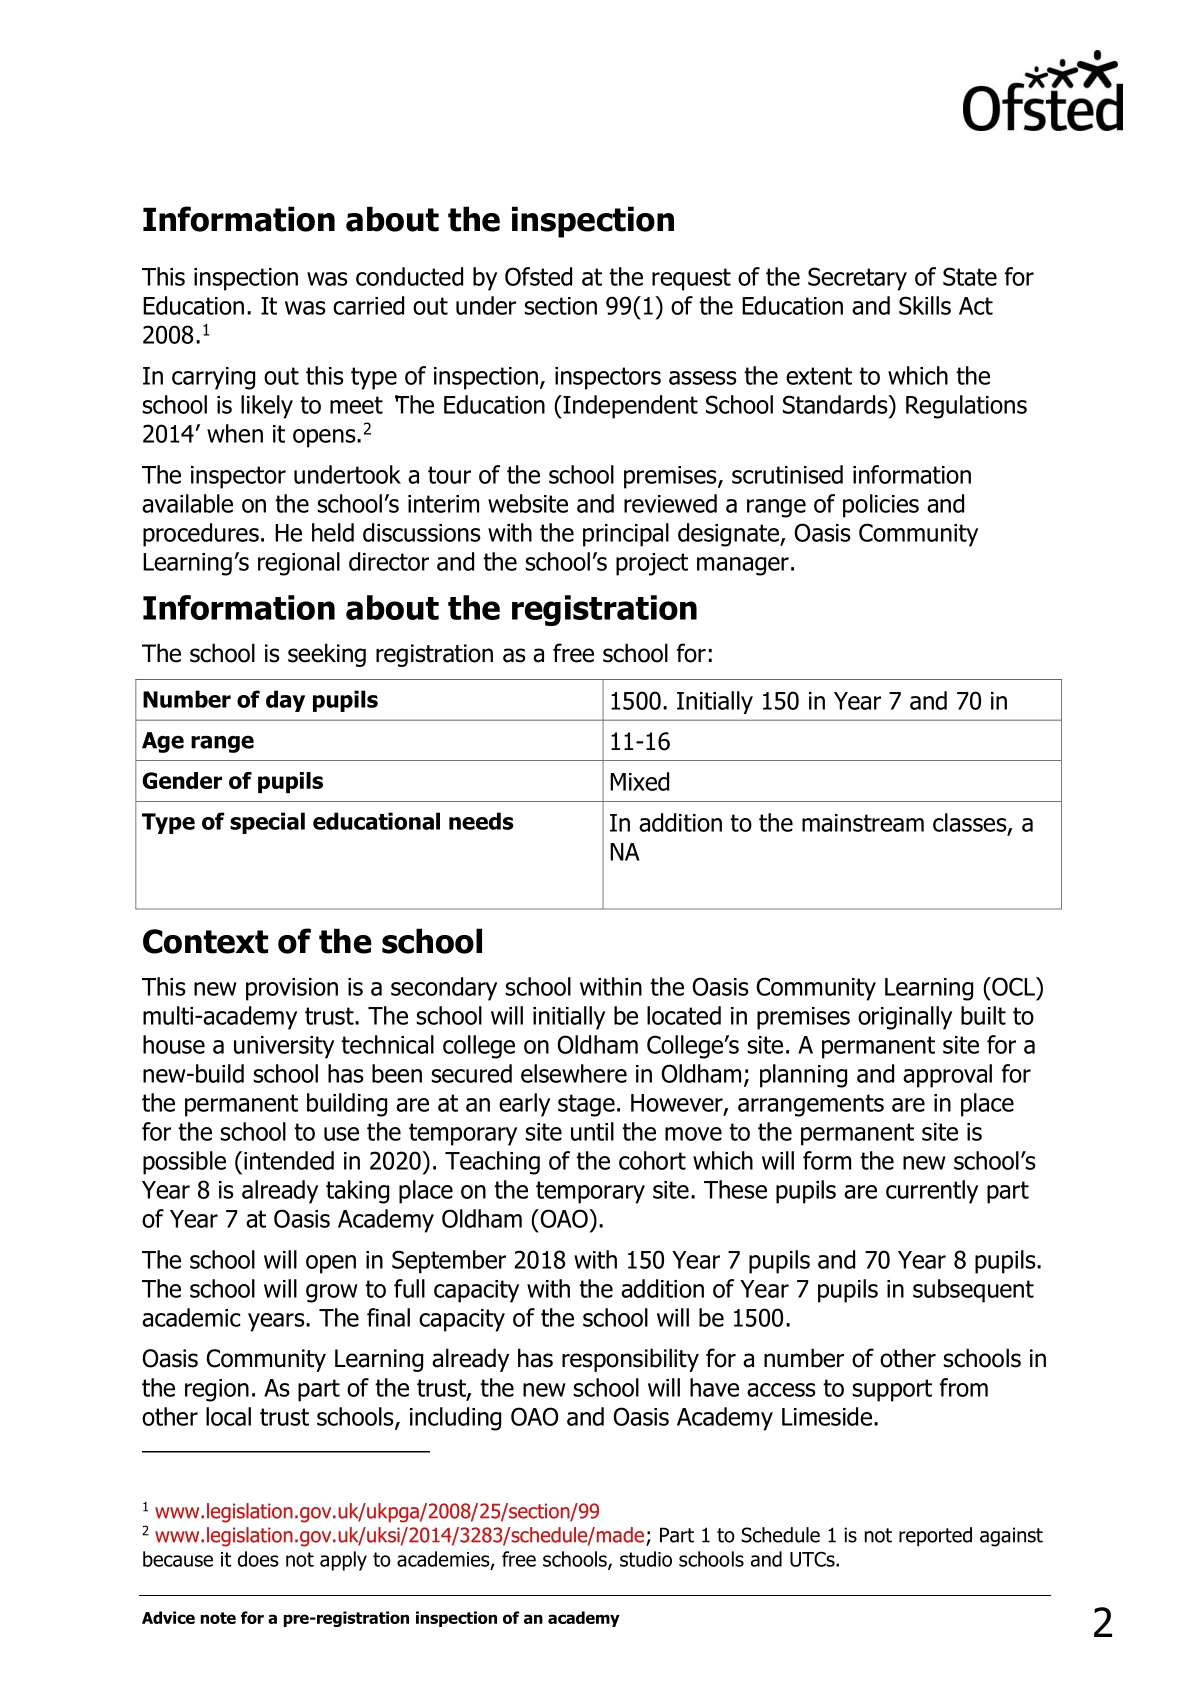full_lined: (134, 677, 1062, 912)
